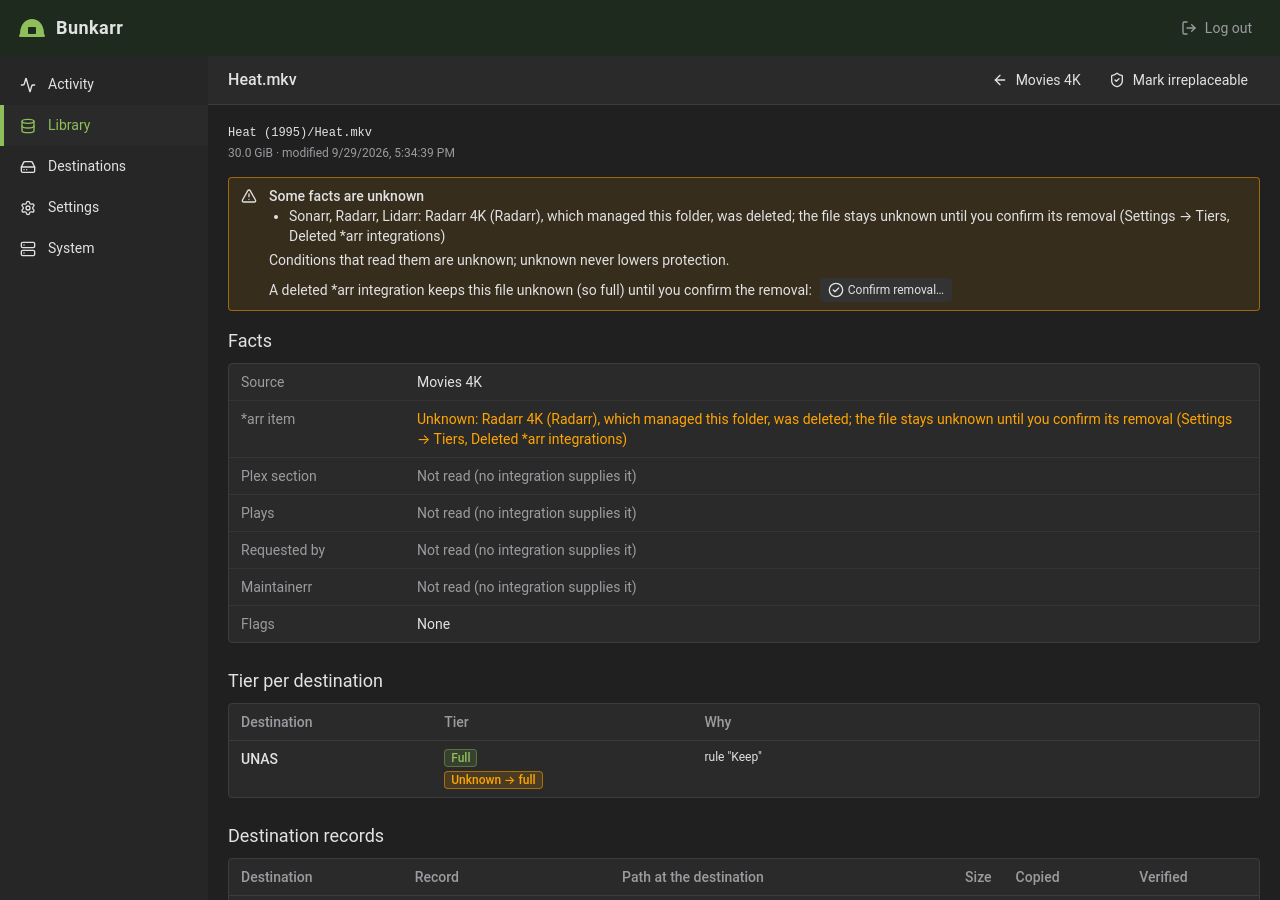
Scenario: Deleted *arr integrations › the Library item view offers the confirmation for a file in a deleted integration's folder, then reloads the file
The image size is (1280, 900).
What coordinates should you click on to do the following:
click the button with aria-label "Confirm removal of Radarr 4K"
I would click on:
 (886, 290)
Its box is [820,278,952,302].
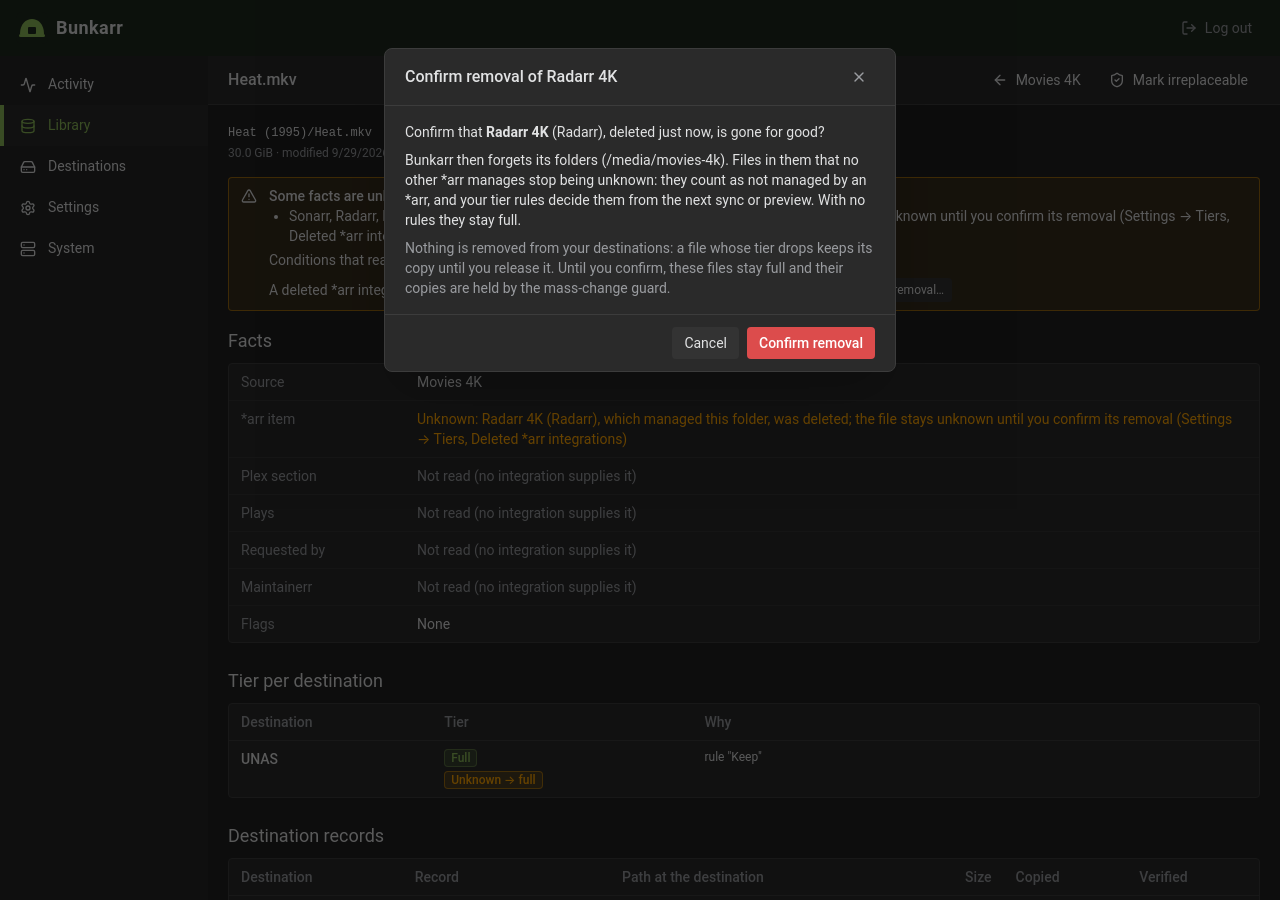
What coordinates should you click on to do the following:
click the button "Confirm removal"
I would click on:
 (811, 343)
Its box is [747,327,875,359].
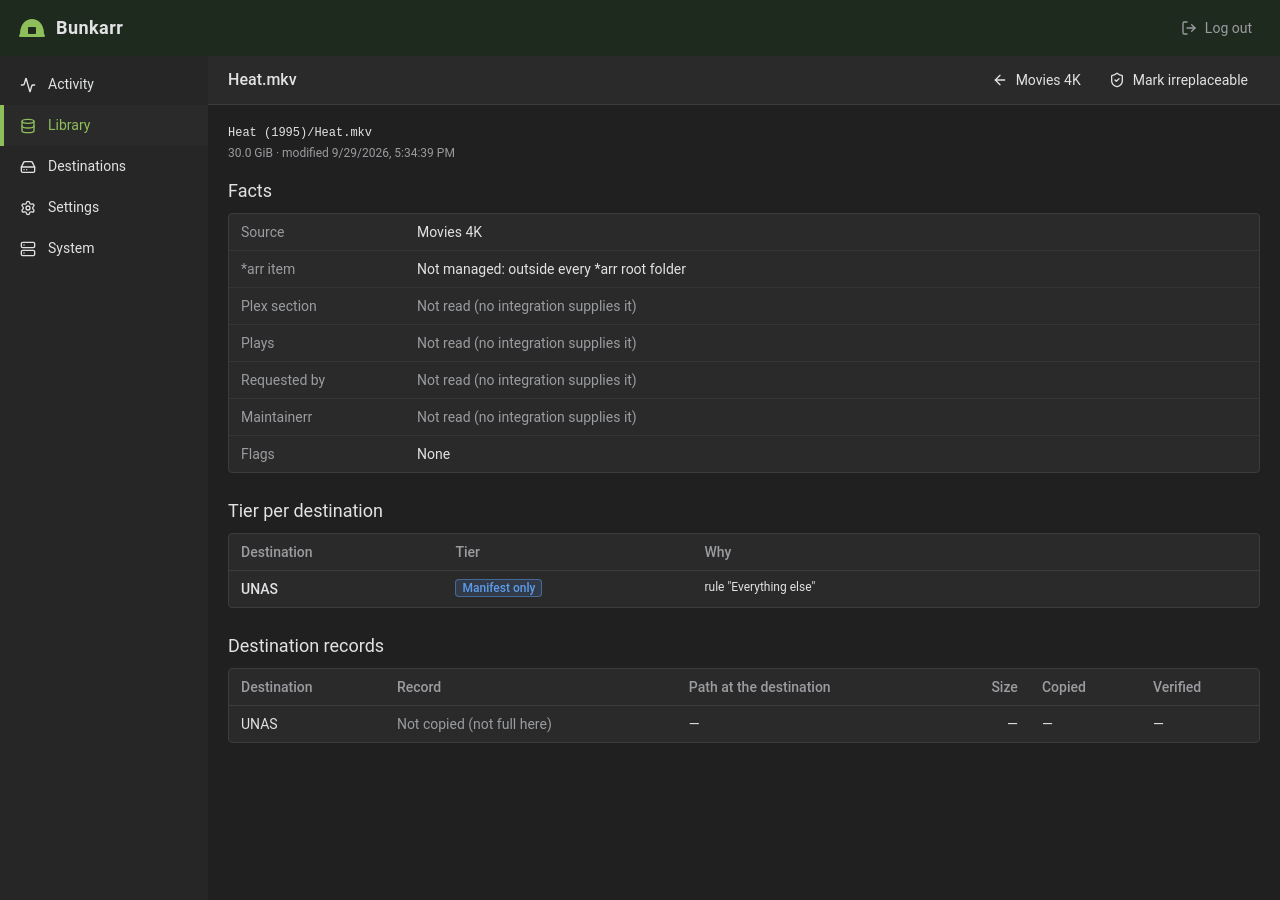
Expected: the text "keeps this file unknown" is gone
Expected: the text "rule \"Everything else\"" is shown, [704,580,815,594]
